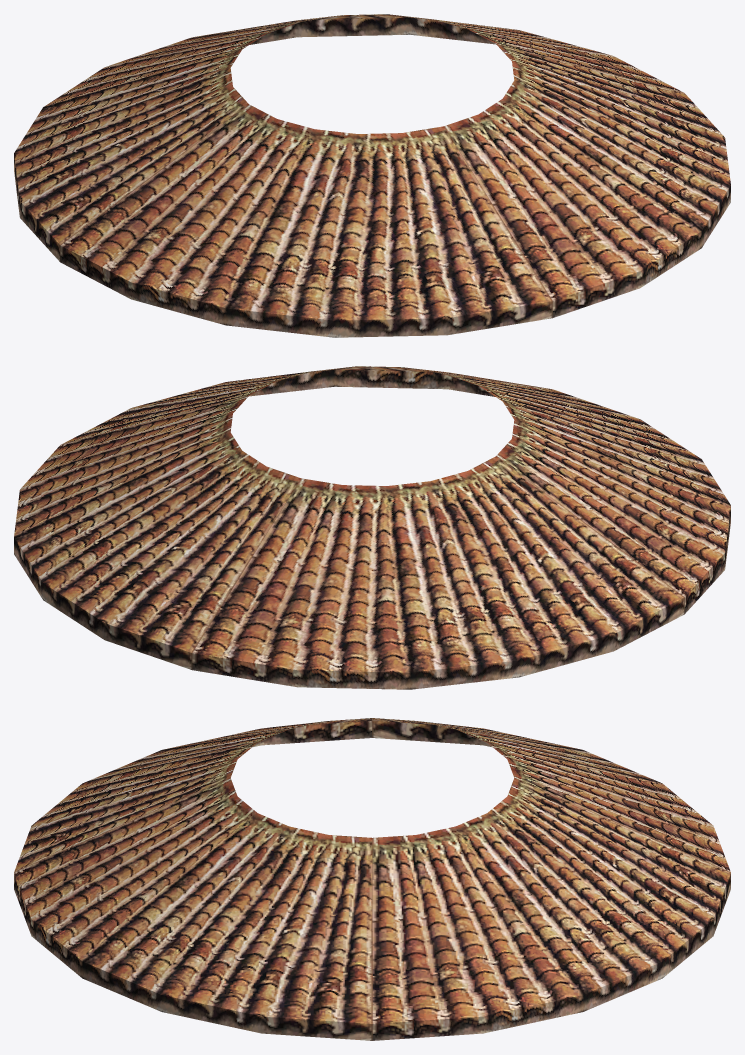
The model's file is hele_civic_round.dae.
3 renders of one model, top to bottom at view 1: azimuth 30°, elevation 25°; view 2: azimuth 150°, elevation 25°; view 3: azimuth 270°, elevation 25°, orthographic.
Visible parts, largest first — view 1: roundRoof-Pivot; view 2: roundRoof-Pivot; view 3: roundRoof-Pivot.
Boxes of the visible parts, x1=… form: roundRoof-Pivot: x1=14, y1=14, x2=730, y2=337; roundRoof-Pivot: x1=14, y1=366, x2=730, y2=689; roundRoof-Pivot: x1=14, y1=718, x2=730, y2=1040.
Size of the model in its own units: 9.66 by 9.66 by 1.66.
